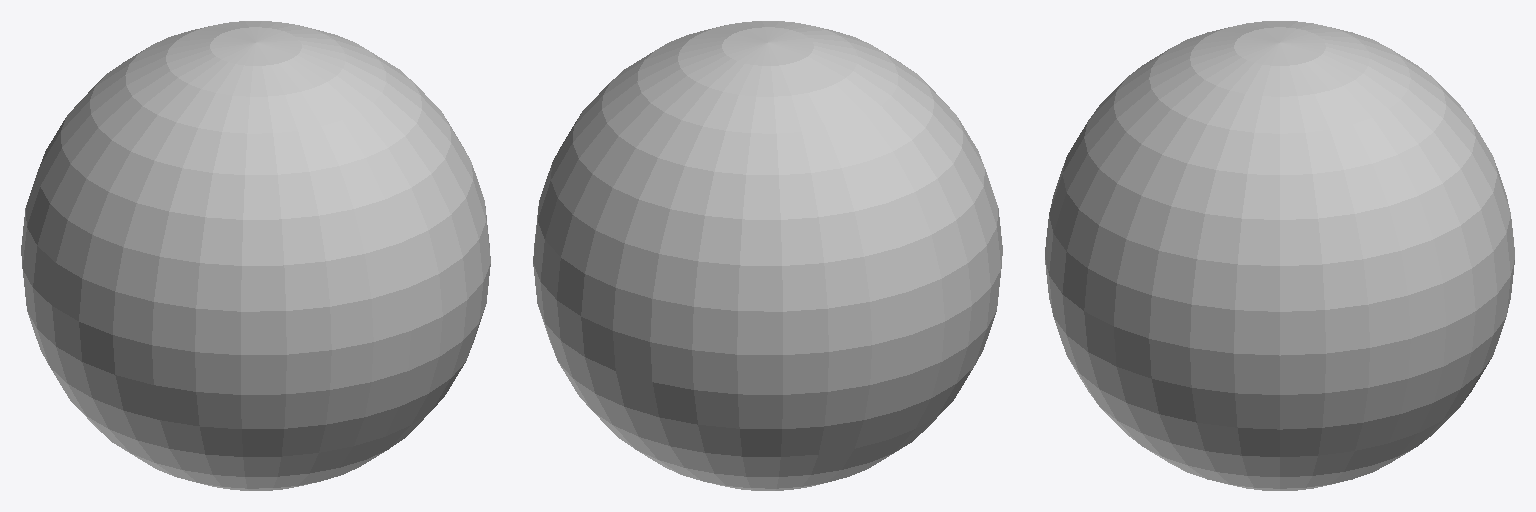
Rendered from star.obj.
3 views of the same model, side by side, from view 1: azimuth 30°, elevation 25°; view 2: azimuth 150°, elevation 25°; view 3: azimuth 270°, elevation 25° (orthographic).
Parts seen in each view (by area): view 1: Sphere; view 2: Sphere; view 3: Sphere.
Part boxes in pixels (x1,y1,x2,y2): Sphere: (21,21,490,490); Sphere: (533,21,1002,490); Sphere: (1045,21,1514,490).
Bounding box in the file's own units: 37.09 × 37.09 × 37.09.